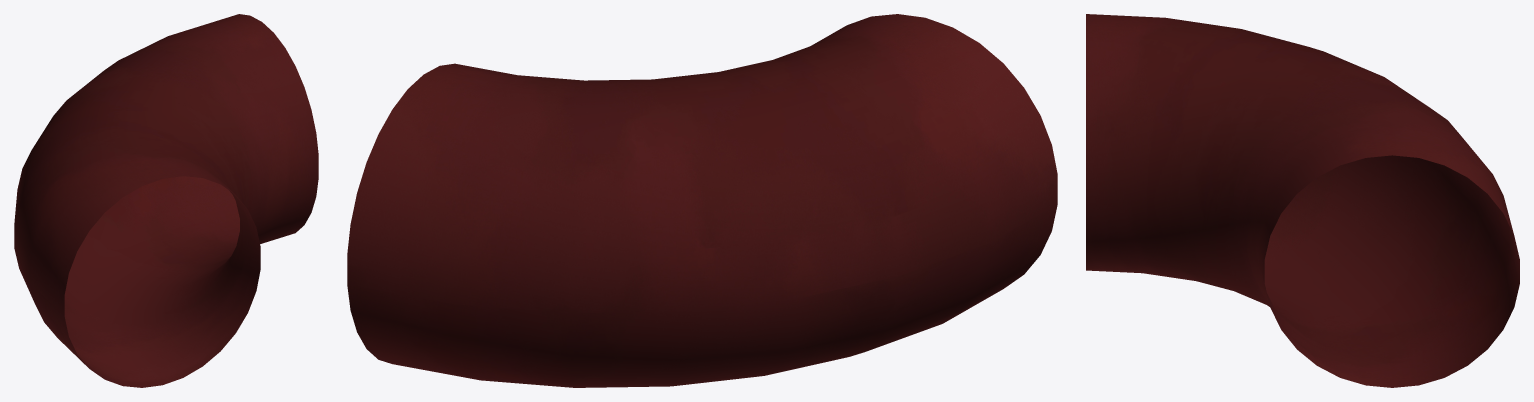
File: Module_turn.FBX
3 renders of one model, left to right at view 1: azimuth 30°, elevation 25°; view 2: azimuth 150°, elevation 25°; view 3: azimuth 270°, elevation 25°, orthographic. The views are drawn at different scales.
Visible parts, largest first — view 1: Module_turn; view 2: Module_turn; view 3: Module_turn.
Boxes of the visible parts, <box> form: Module_turn: <box>14,14,318,387</box>; Module_turn: <box>347,14,1057,387</box>; Module_turn: <box>1086,14,1519,387</box>.
Size of the model in its own units: 67.64 by 40 by 67.64.
